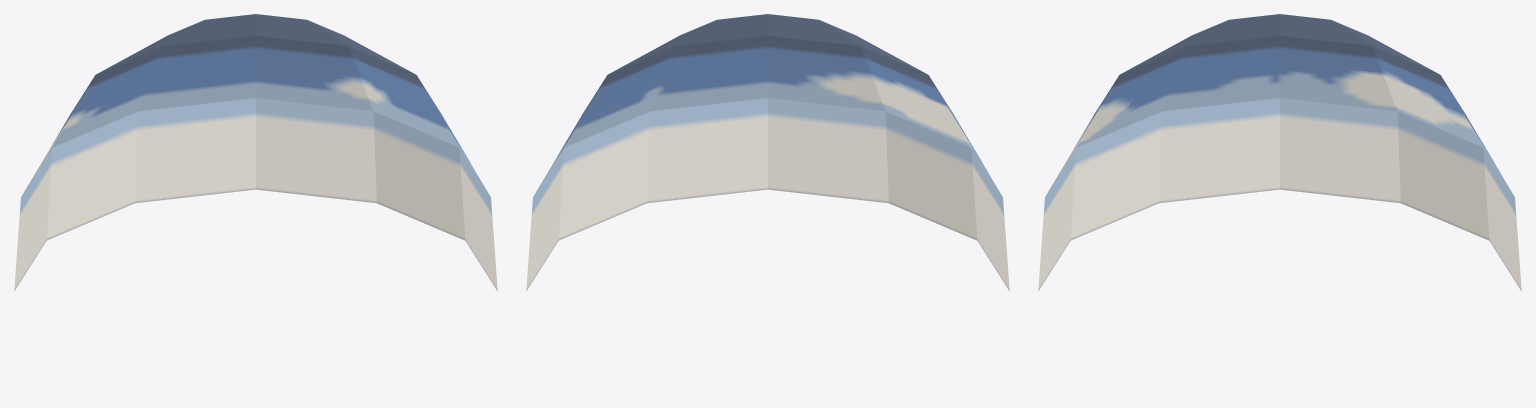
Rendered from sky.backdrop.glb.
3 views of the same model, side by side, from view 1: azimuth 30°, elevation 25°; view 2: azimuth 150°, elevation 25°; view 3: azimuth 270°, elevation 25° (orthographic).
Parts seen in each view (by area): view 1: kit_shell_sky; view 2: kit_shell_sky; view 3: kit_shell_sky.
Boxes of the visible parts, x1=… form: kit_shell_sky: x1=14, y1=14, x2=497, y2=290; kit_shell_sky: x1=526, y1=14, x2=1009, y2=290; kit_shell_sky: x1=1038, y1=14, x2=1521, y2=290.
Size of the model in its own units: 791 by 460 by 791.
Materials: 1 (1 with a texture image).
